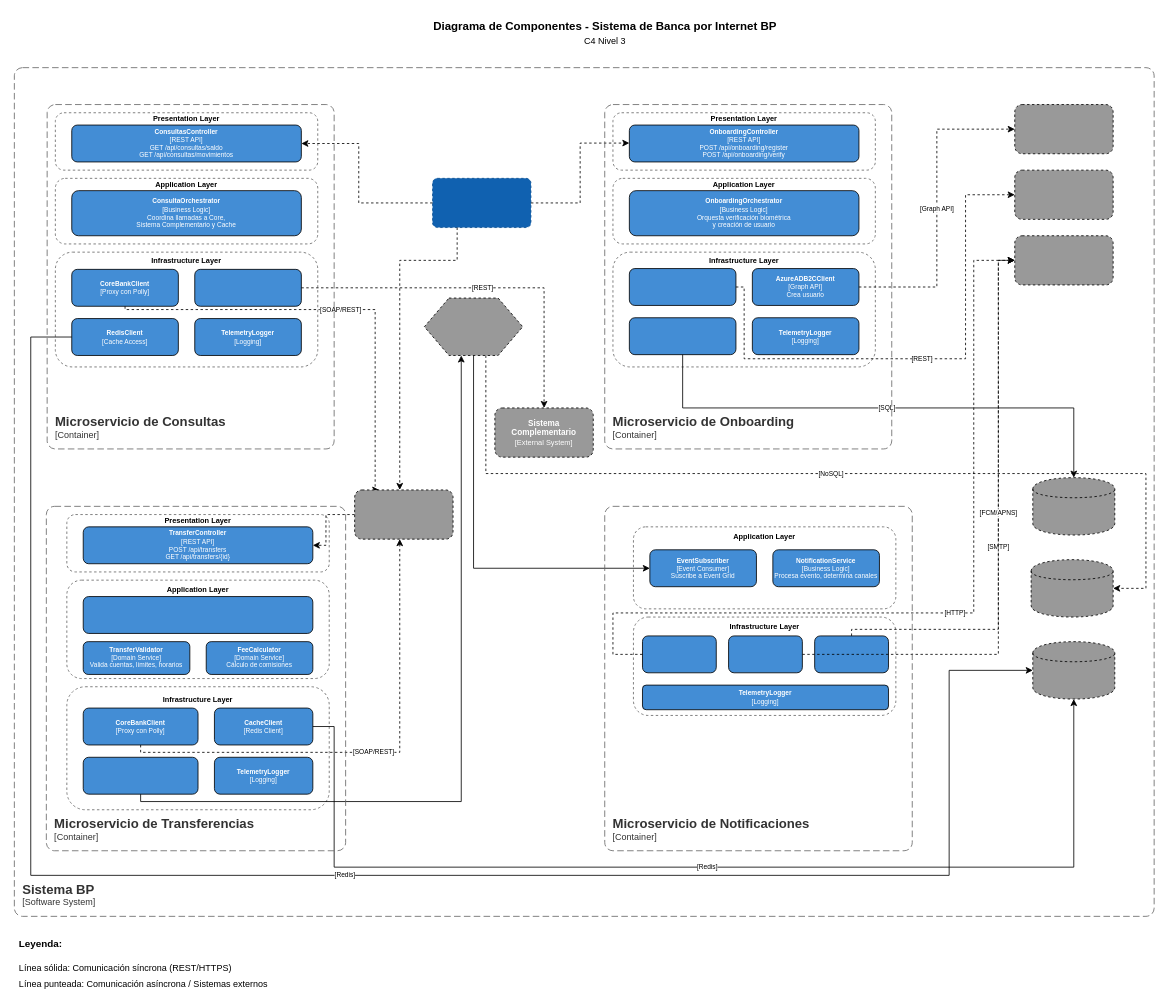
This 1169x1004 diagram has some shape labels left out. Each missing label, with the centre of its shape:
"API Gateway [Azure API Management]" belongs at point (481, 203).
"AuditRepository [Event Dispatcher]" belongs at point (140, 775).
"Azure AD B2C [External System]" belongs at point (1063, 129).
"Azure Event Grid [Event Bus]" belongs at point (473, 326).
"Azure SQL [Usuarios]" belongs at point (1073, 506).
"ComplementaryClient [HTTP Client]" belongs at point (247, 287).
"Core Bancario [External System]" belongs at point (403, 514).
"Cosmos DB [Auditoría]" belongs at point (1071, 588).
"EmailClient [SMTP Client]" belongs at point (765, 654).
"Onfido [External System]" belongs at point (1063, 194).
"OnfidoClient [HTTP Client] Verificación facial" belongs at point (682, 286).
"Proveedores [SMS/Email/Push]" belongs at point (1063, 260).
"PushClient [FCM/APNS]" belongs at point (851, 654).
"Redis Cache [Database]" belongs at point (1073, 670).
"SMSClient [HTTP Client]" belongs at point (679, 654).
"TransferService [Business Logic] Validación de saldo, cálculo comisiones" belongs at point (197, 614).
"UserRepository [EF Core] Persiste datos" belongs at point (682, 336).
